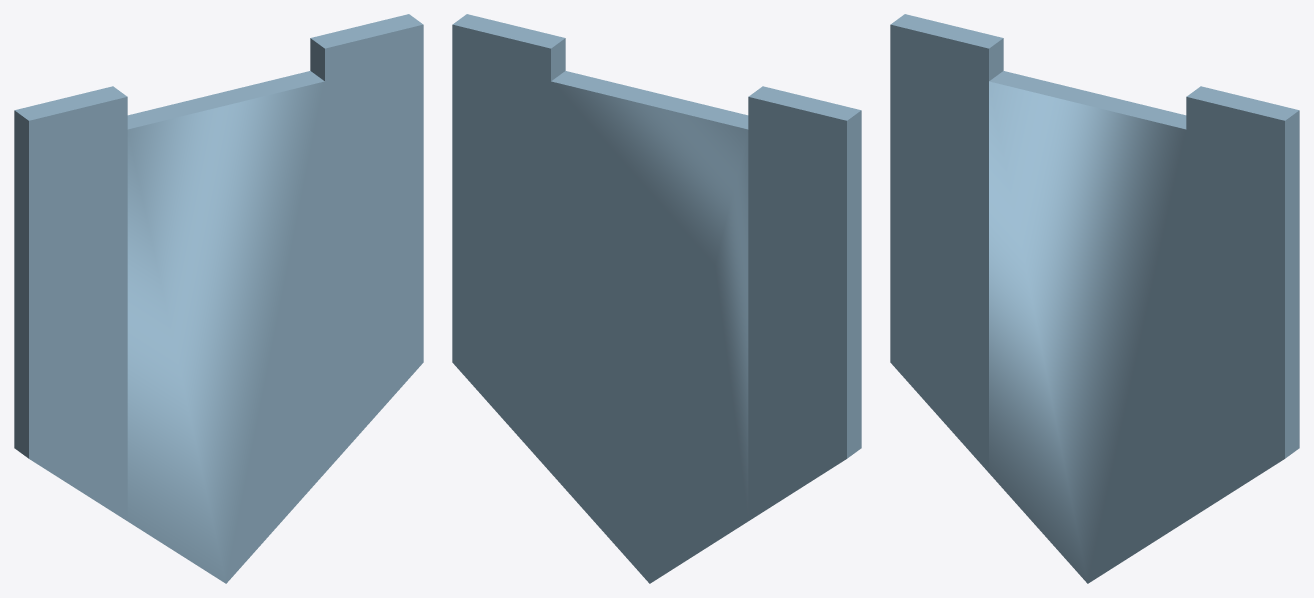
The model's file is flagBannerShort.fbx.
3 views of the same model, side by side, from view 1: azimuth 30°, elevation 25°; view 2: azimuth 150°, elevation 25°; view 3: azimuth 330°, elevation 25° (orthographic).
Visible parts, largest first — view 1: flagBannerShort; view 2: flagBannerShort; view 3: flagBannerShort.
Part boxes in pixels (<box>): flagBannerShort: <box>14,14,423,583</box>; flagBannerShort: <box>452,14,861,583</box>; flagBannerShort: <box>890,14,1299,583</box>.
Size of the model in its own units: 189 by 234 by 12.
